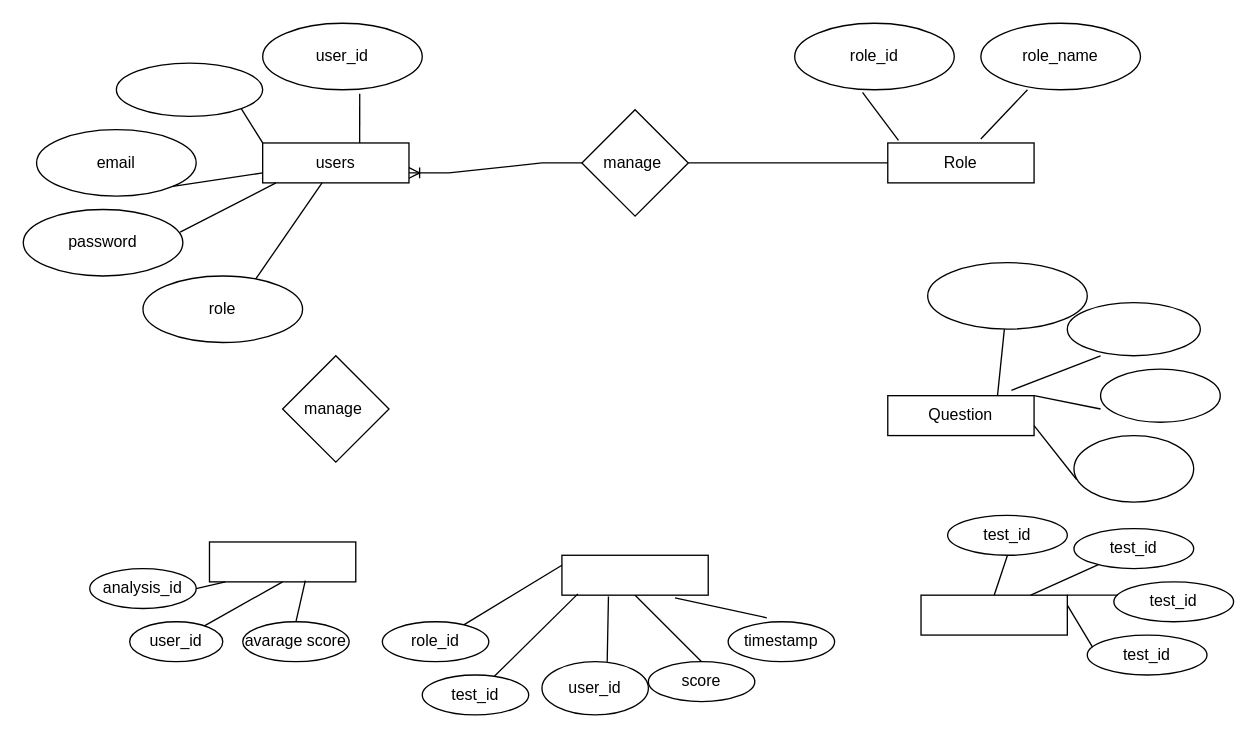
The diagram is 1257 pixels wide and 738 high, and some of its shapes have lost their labels. The shapes that lost their labels are listed below. From the top down, each one's box as (x1, y1, x2, y2) in pixels, then its label:
(115, 62, 263, 116): name
(926, 261, 1087, 329): difficult_level
(1066, 301, 1200, 356): text
(1099, 368, 1220, 422): question_id
(1073, 434, 1194, 502): correct_answer
(208, 541, 356, 582): performce Analysis
(561, 554, 708, 595): Test-Result
(920, 594, 1067, 635): Test
